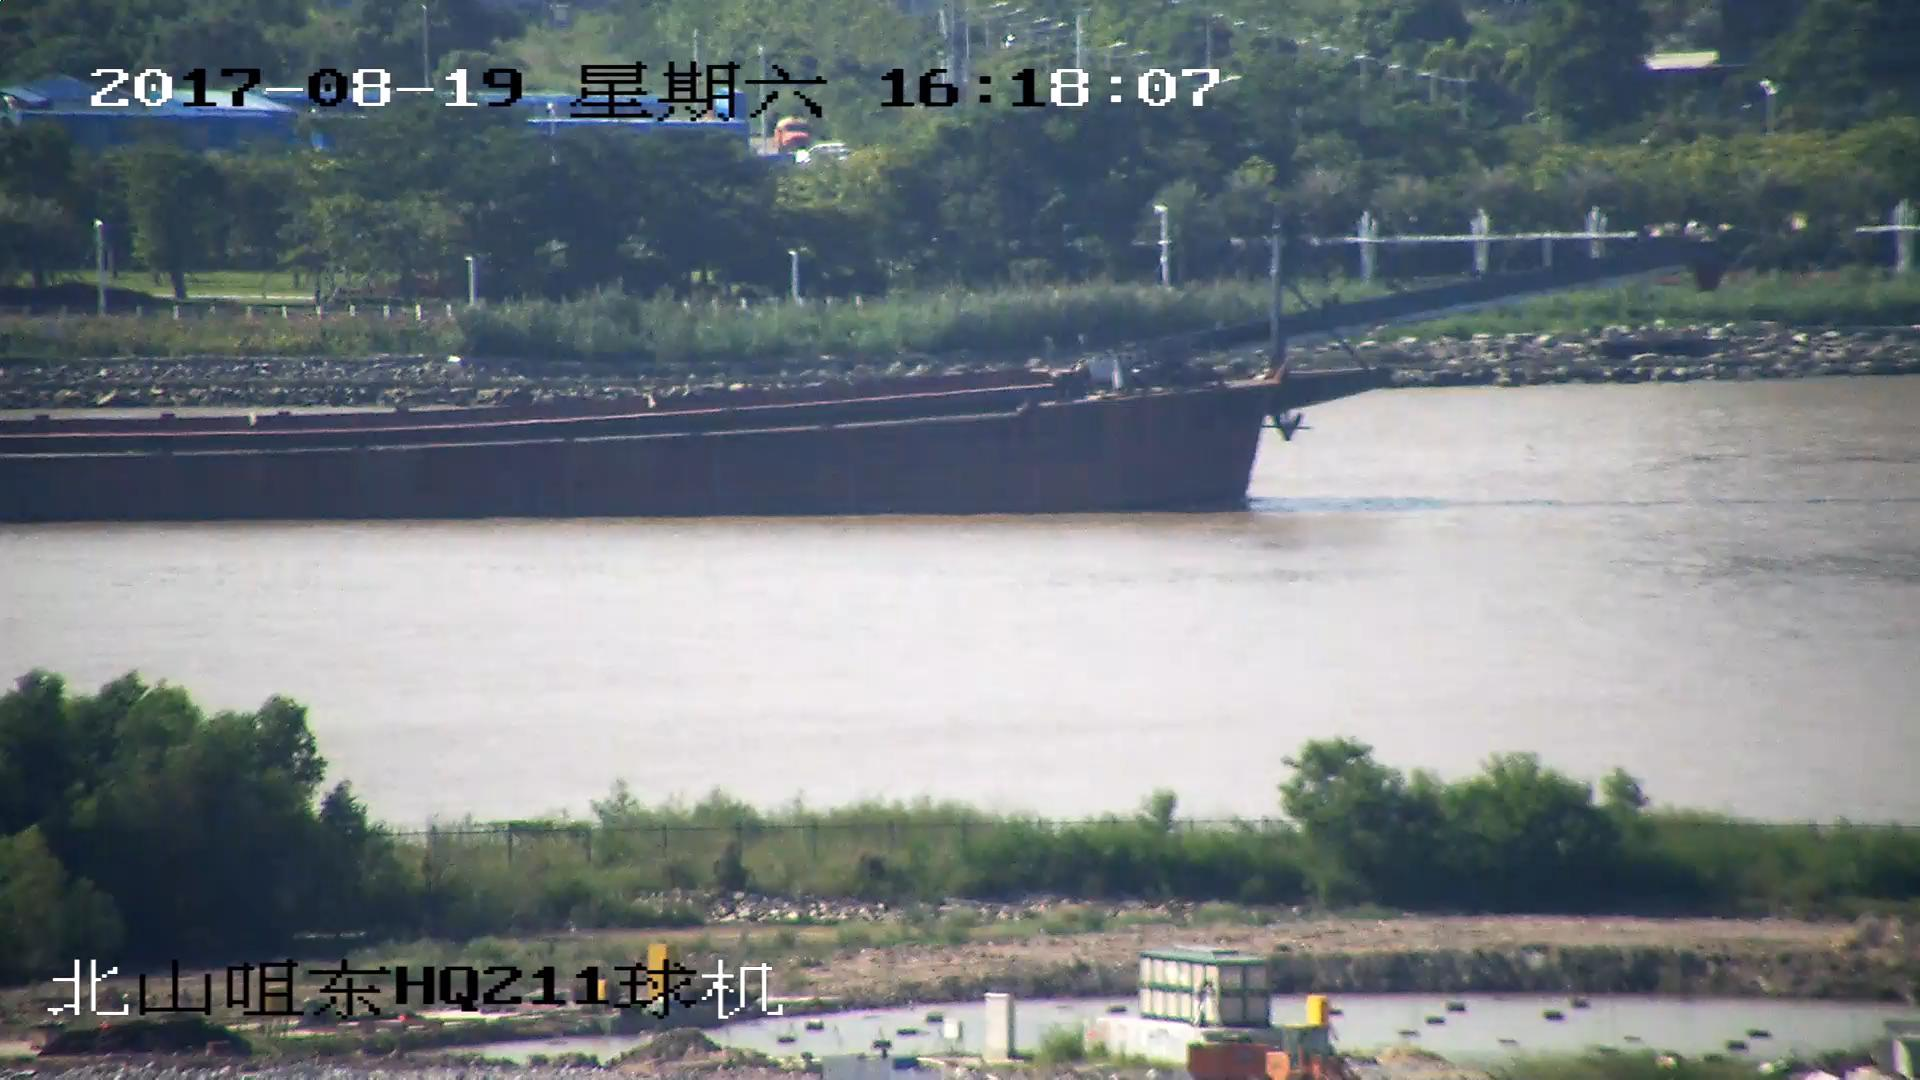Ship: (3, 243, 1710, 526)
